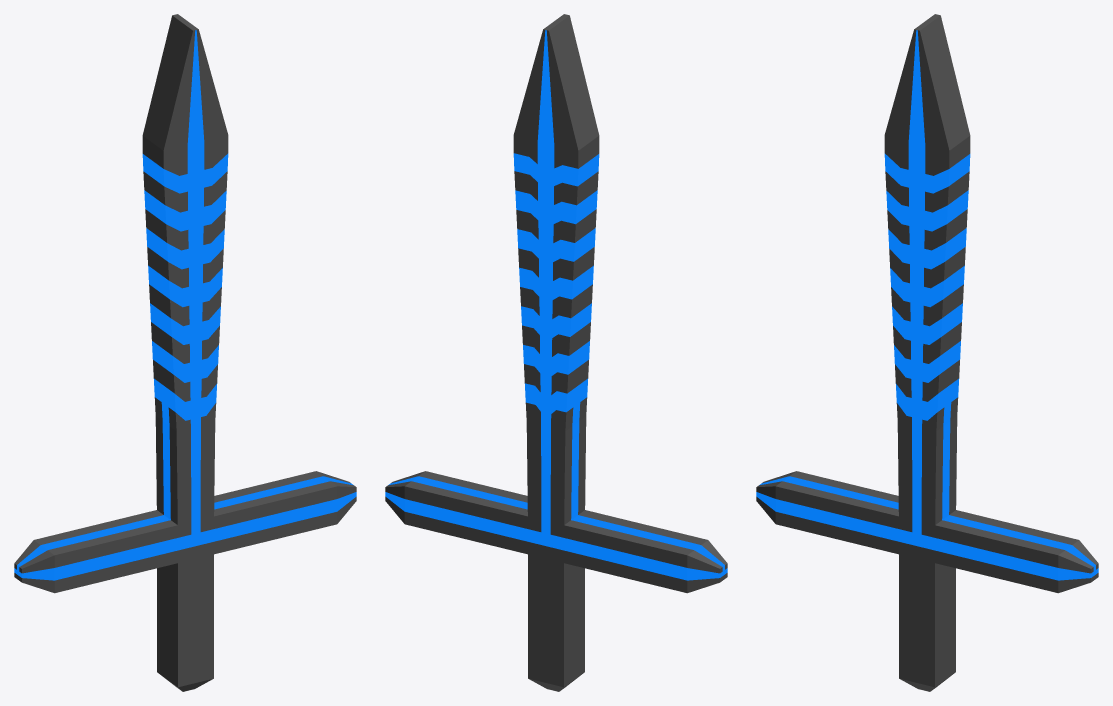
File: sword form.glb
3 renders of one model, left to right at view 1: azimuth 30°, elevation 25°; view 2: azimuth 150°, elevation 25°; view 3: azimuth 330°, elevation 25°, orthographic.
Visible parts, largest first — view 1: Cube; view 2: Cube; view 3: Cube.
Part boxes in pixels (bbox=[...]): Cube: bbox=[14, 14, 356, 691]; Cube: bbox=[385, 14, 727, 691]; Cube: bbox=[756, 14, 1098, 691].
Bounding box in the file's own units: 5.01 × 9.53 × 0.5433.
